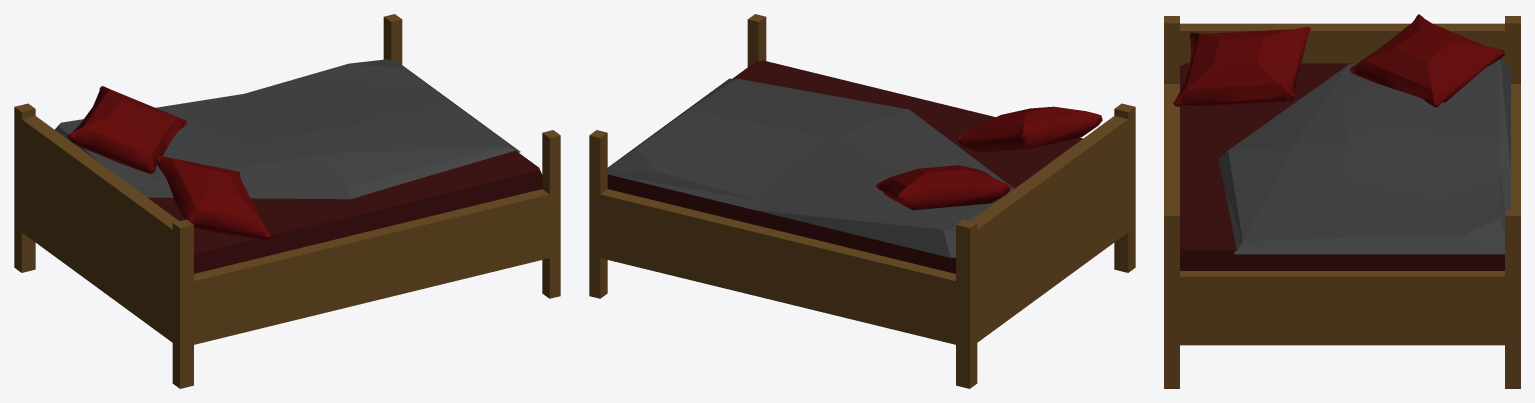
File: Bed_new.FBX
3 renders of one model, left to right at view 1: azimuth 30°, elevation 25°; view 2: azimuth 150°, elevation 25°; view 3: azimuth 270°, elevation 25°, orthographic. The views are drawn at different scales.
Visible parts, largest first — view 1: Box003, Object006, Object007; view 2: Box003, Object007, Object006; view 3: Box003, Object007, Object006.
Boxes of the visible parts, x1,y1,x2,y2 form: Box003: (14,14,560,388); Object006: (68,86,186,173); Object007: (155,155,270,239); Box003: (589,14,1135,388); Object007: (957,106,1102,152); Object006: (876,165,1010,210); Box003: (1164,16,1520,388); Object007: (1173,26,1310,106); Object006: (1350,14,1504,107).
Bounding box in the file's own units: 2.2 × 0.9633 × 1.66.
